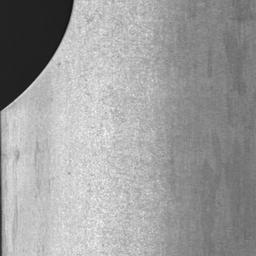Crescent gap: (0, 0, 74, 109)
